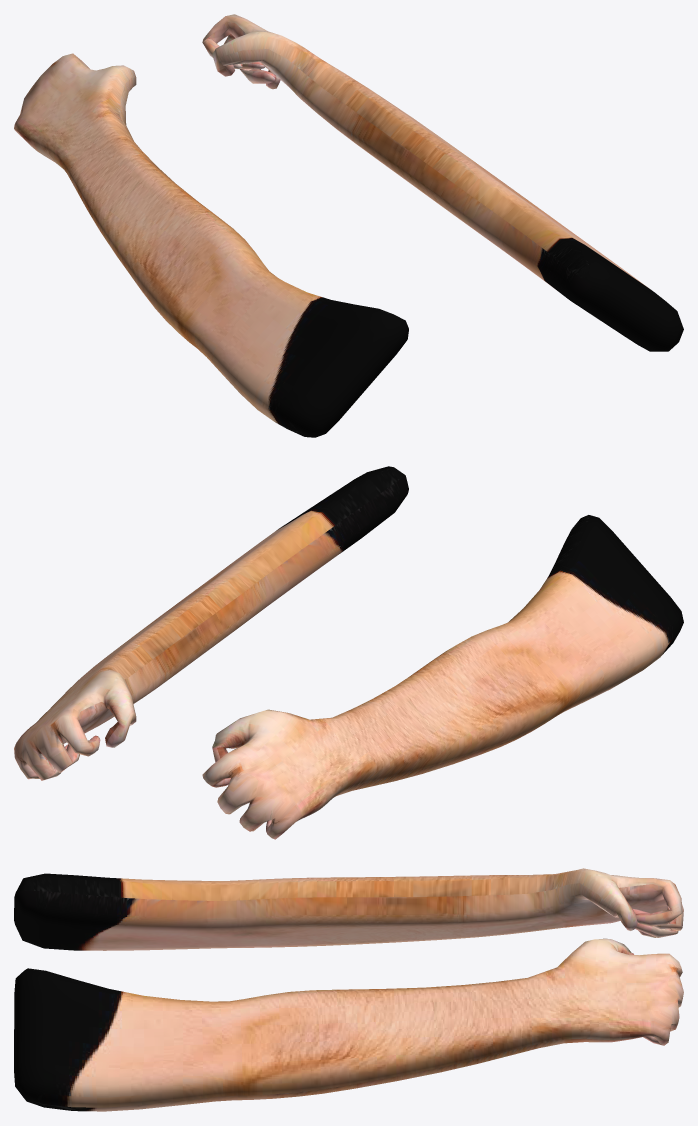
The model's file is punchingArms.fbx.
The picture shows the model from 3 angles, top to bottom: view 1: azimuth 30°, elevation 25°; view 2: azimuth 150°, elevation 25°; view 3: azimuth 270°, elevation 25°; orthographic projection. The views are drawn at different scales.
Visible parts, largest first — view 1: Arm_punchLeft, Arm_punchRight; view 2: Arm_punchLeft, Arm_punchRight; view 3: Arm_punchRight, Arm_punchLeft.
Boxes of the visible parts, <box> form: Arm_punchLeft: <box>14,53,408,437</box>; Arm_punchRight: <box>202,14,683,351</box>; Arm_punchLeft: <box>202,515,683,839</box>; Arm_punchRight: <box>14,466,408,780</box>; Arm_punchRight: <box>14,938,683,1111</box>; Arm_punchLeft: <box>14,868,683,950</box>.
Size of the model in its own units: 270 by 84.78 by 417.
